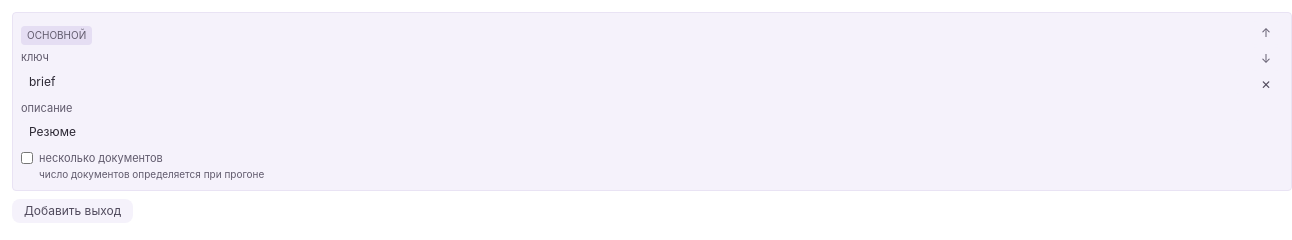
it: OutputsList — deferred focus model on mutation (CATALOG-157) › focuses "Добавить выход" after removing the last remaining row
Click the button named "Удалить выход brief" at {"x": 1266, "y": 85}, box 1249,73 -> 1283,97
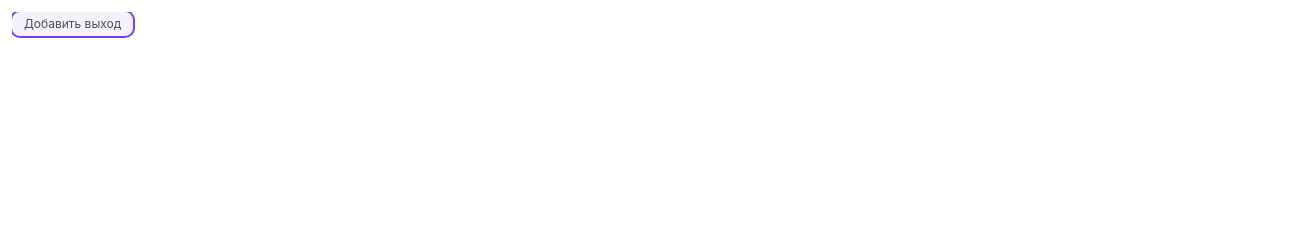
Expected: no labels labelled "ключ" are shown
